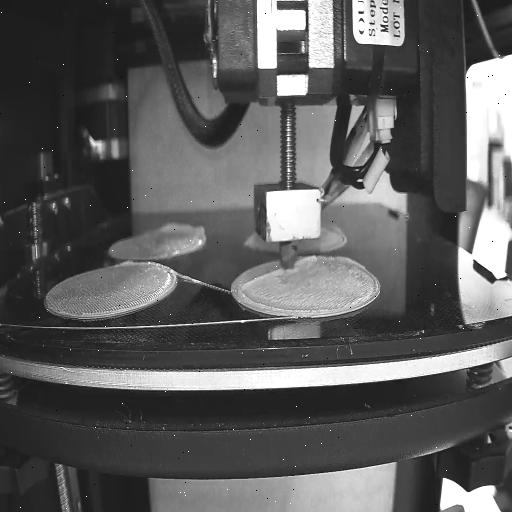over_extrusion: (238, 265, 280, 295), (160, 220, 208, 242), (334, 254, 368, 274), (326, 220, 349, 248), (117, 254, 136, 272), (297, 252, 316, 266)
